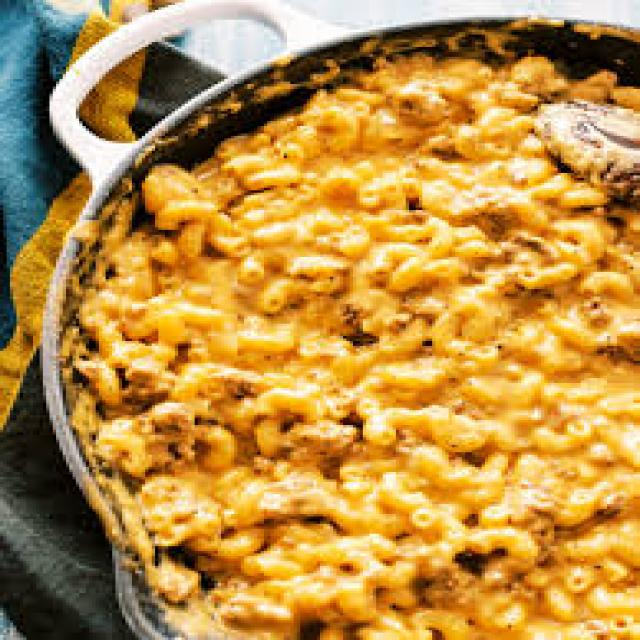organic waste: (63, 52, 636, 637)
